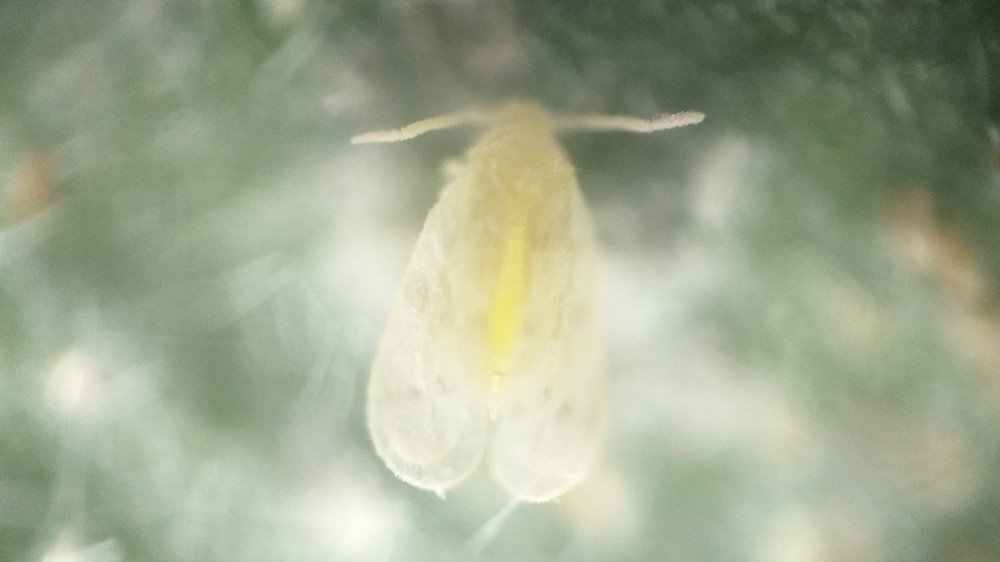Mosca Blanca: (328, 70, 729, 518)
